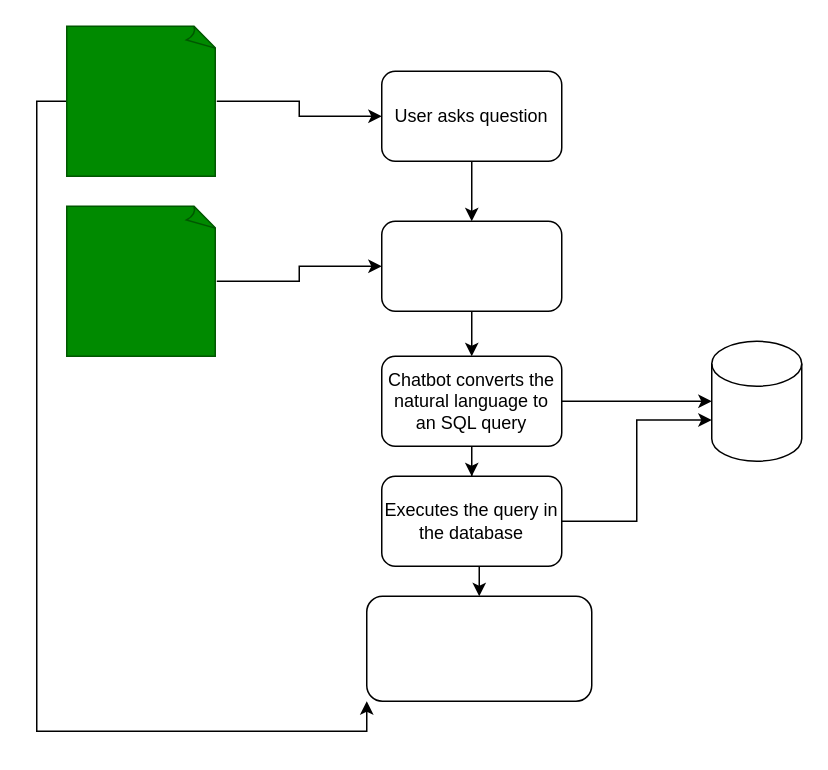
Image size: 828x770. Some labels were removed from this diagram. Each missing label, with the centre of its shape:
Chatbot understands the intent: (471,265)
Returns the result to the user in an understandable format: (478,648)
